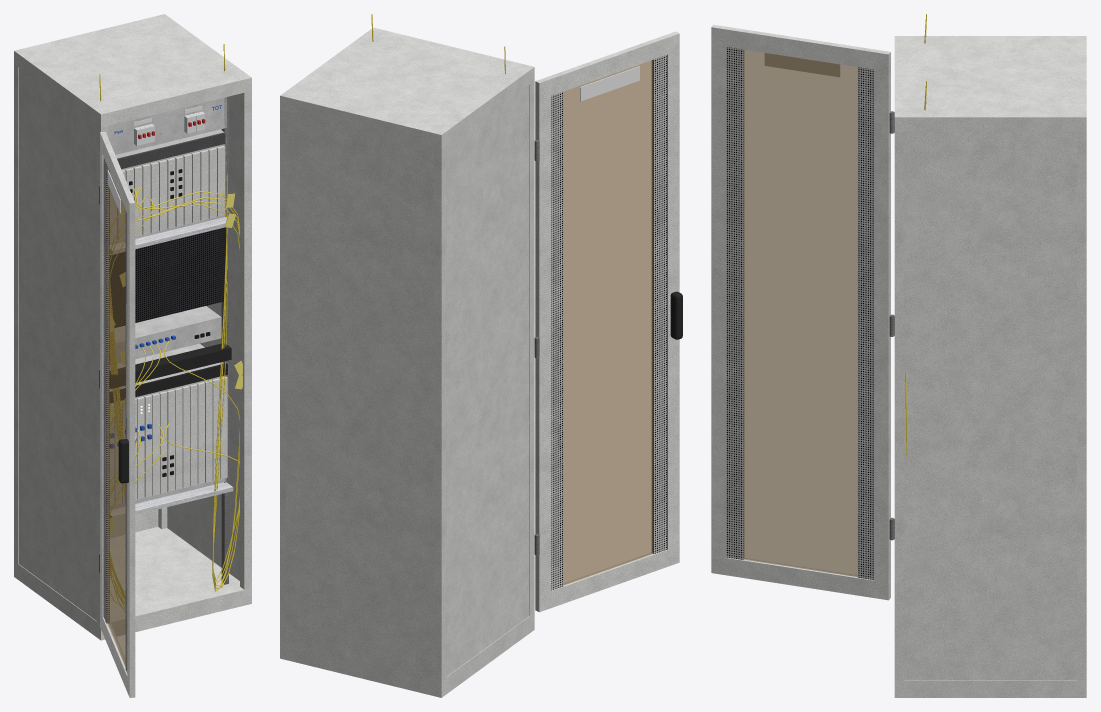
Rendered from C15a_Telecom_Rack_GlassDoor.fbx.
The picture shows the model from 3 angles, left to right: view 1: azimuth 30°, elevation 25°; view 2: azimuth 150°, elevation 25°; view 3: azimuth 270°, elevation 25°; orthographic projection. The views are drawn at different scales.
Visible parts, largest first — view 1: Side, Door_Front, Top, Base, Filler_Perf, Side.001, Post.006, Fiber_Bundle, Device_1U, DCPU_Body, Post.005, CableMgr_1U (+32 smaller); view 2: Rear, Door_Front, Side, Top, Post.005, Base, Post.007, Post.004; view 3: Door_Front, Side.001, Top, Post.006, Post.007, Base.
Part boxes in pixels (x1,y1,x2,y2): Side: (19,68,96,620); Door_Front: (99,131,135,697); Top: (14,14,251,127); Base: (14,527,251,640); Filler_Perf: (110,227,227,327); Side.001: (167,94,239,580); Post.006: (240,91,251,589); Fiber_Bundle: (99,44,239,612); Device_1U: (114,306,221,363); DCPU_Body: (108,97,226,154); Post.005: (14,64,18,564); CableMgr_1U: (110,343,231,388); Rear: (285,112,435,679); Door_Front: (534,31,682,612); Side: (446,85,529,676); Top: (280,27,534,148); Post.005: (433,146,446,680); Base: (280,613,534,697); Post.007: (280,110,288,642); Post.004: (529,81,534,616); Door_Front: (711,24,894,600); Side.001: (904,131,1077,680); Top: (894,36,1086,131); Post.006: (894,131,904,680); Post.007: (1077,131,1086,680); Base: (894,680,1086,697).
Bounding box in the file's own units: 0.8394 × 2.1 × 1.17.
Materials: 19 (9 with a texture image).
